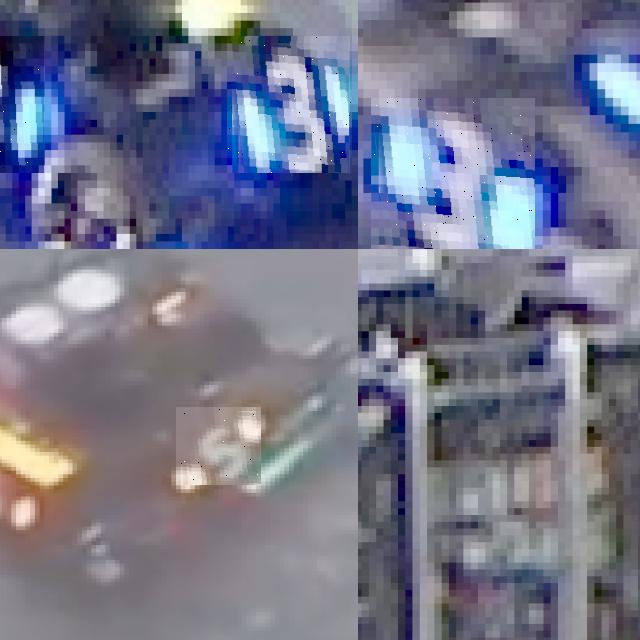B3: (371, 97, 535, 249), (228, 36, 352, 173), (0, 36, 44, 173)
R5: (176, 408, 261, 486)
